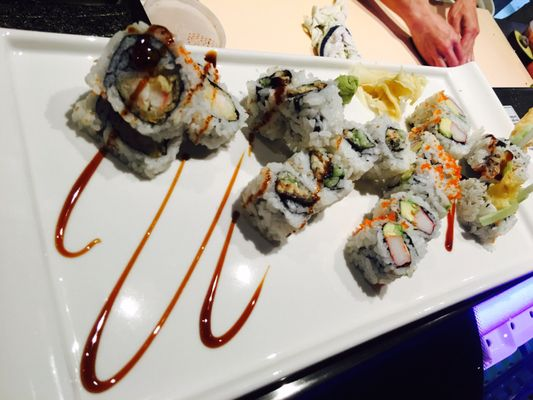curry: (16, 1, 533, 399)
